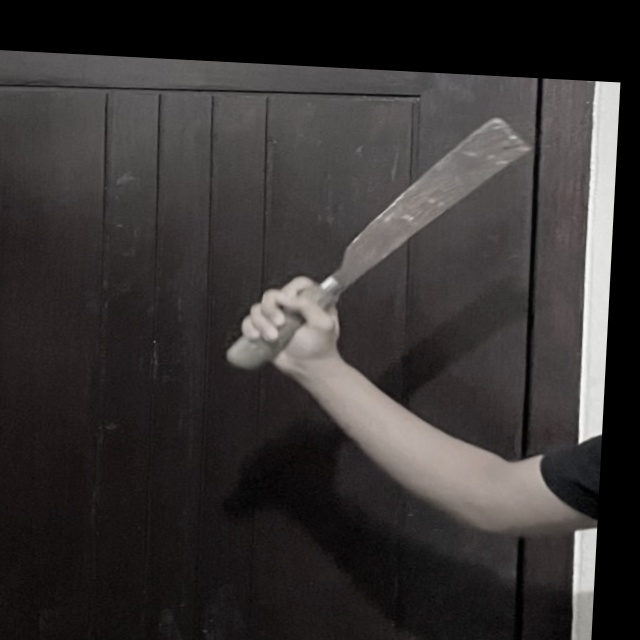Sharp-Object: (219, 102, 539, 390)
